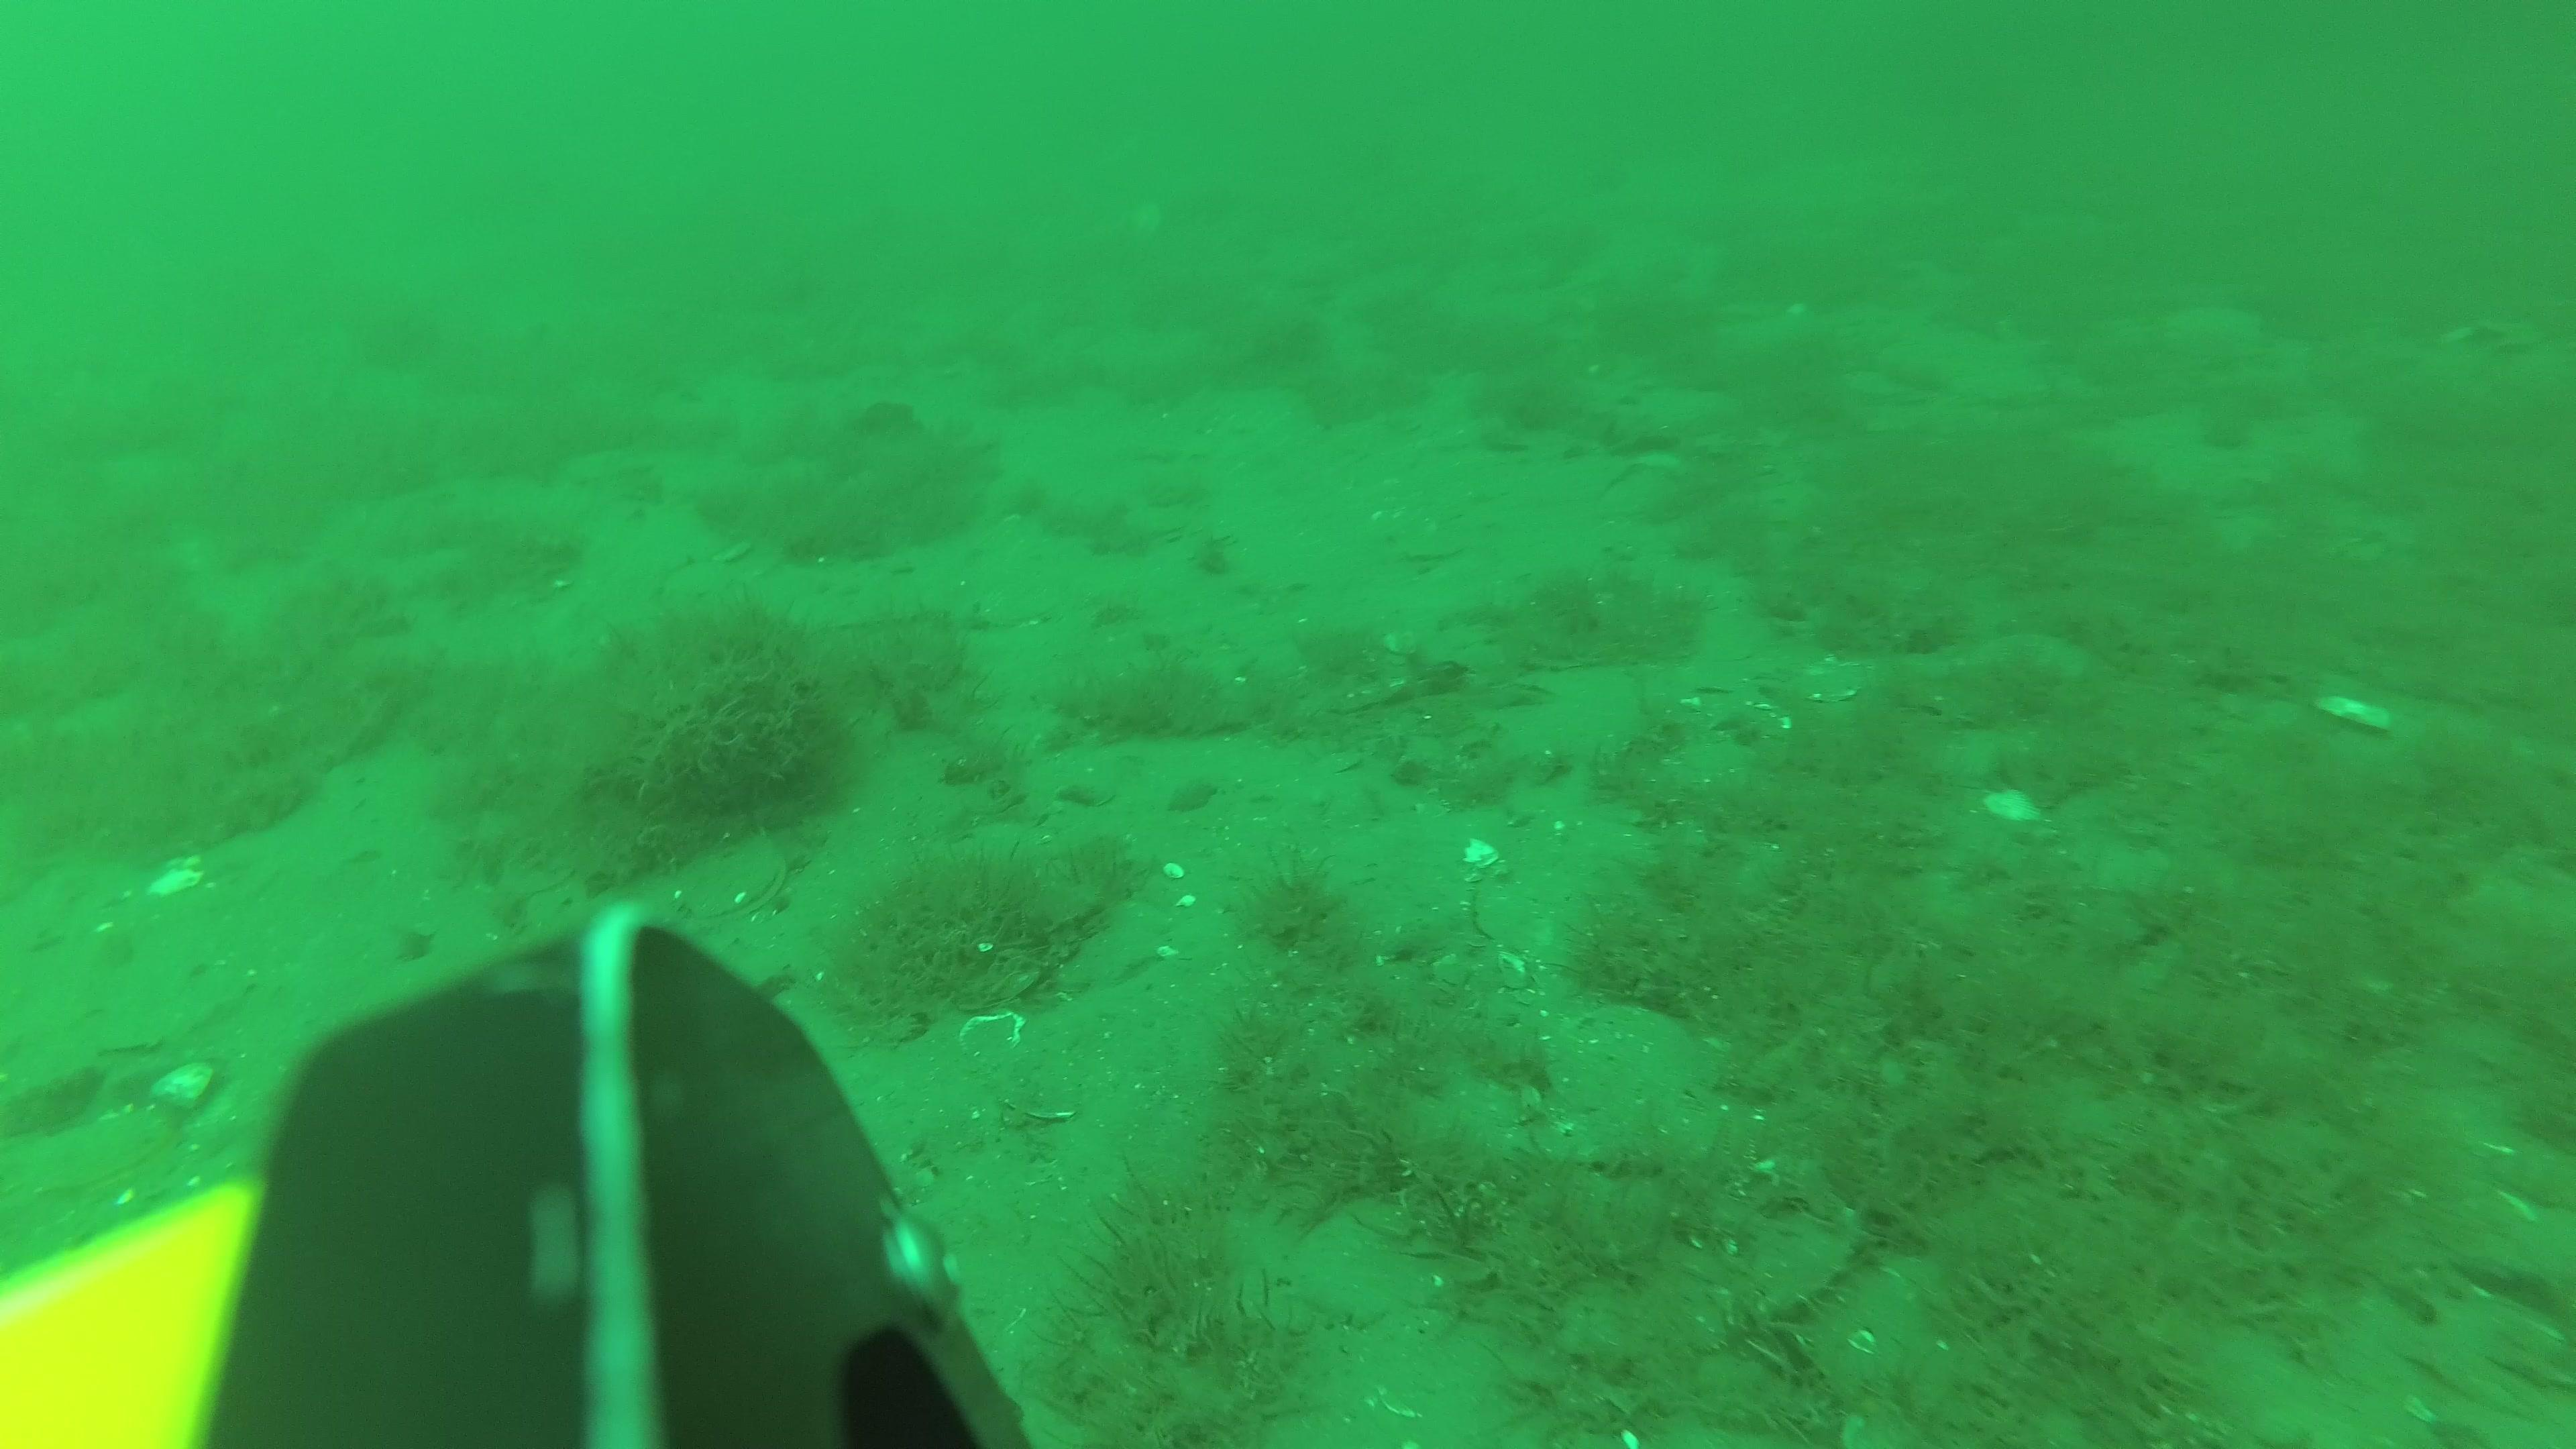scallop: (48, 1116, 184, 1200), (681, 849, 789, 924), (962, 1010, 1028, 1067)
